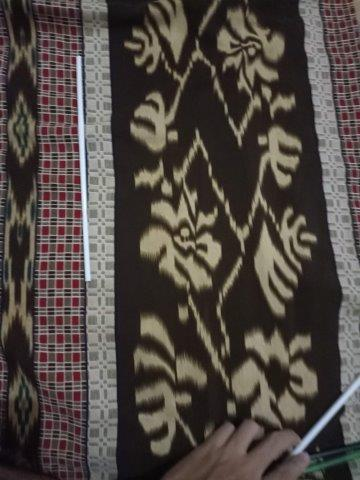sedotan: (76, 56, 90, 281)
